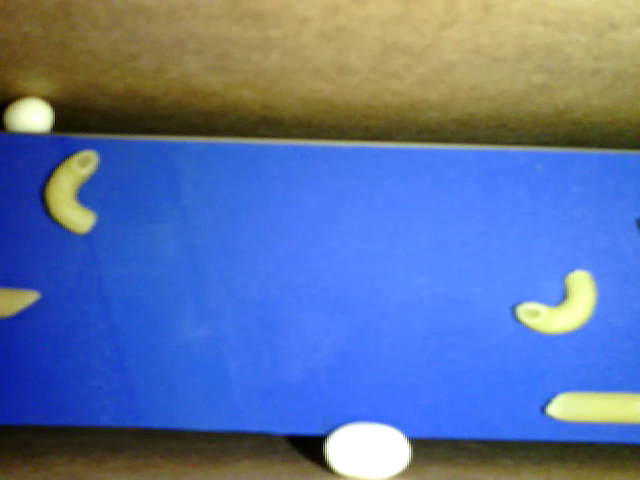elbow: (514, 268, 598, 335), (47, 148, 99, 235)
penne: (546, 390, 639, 425)
